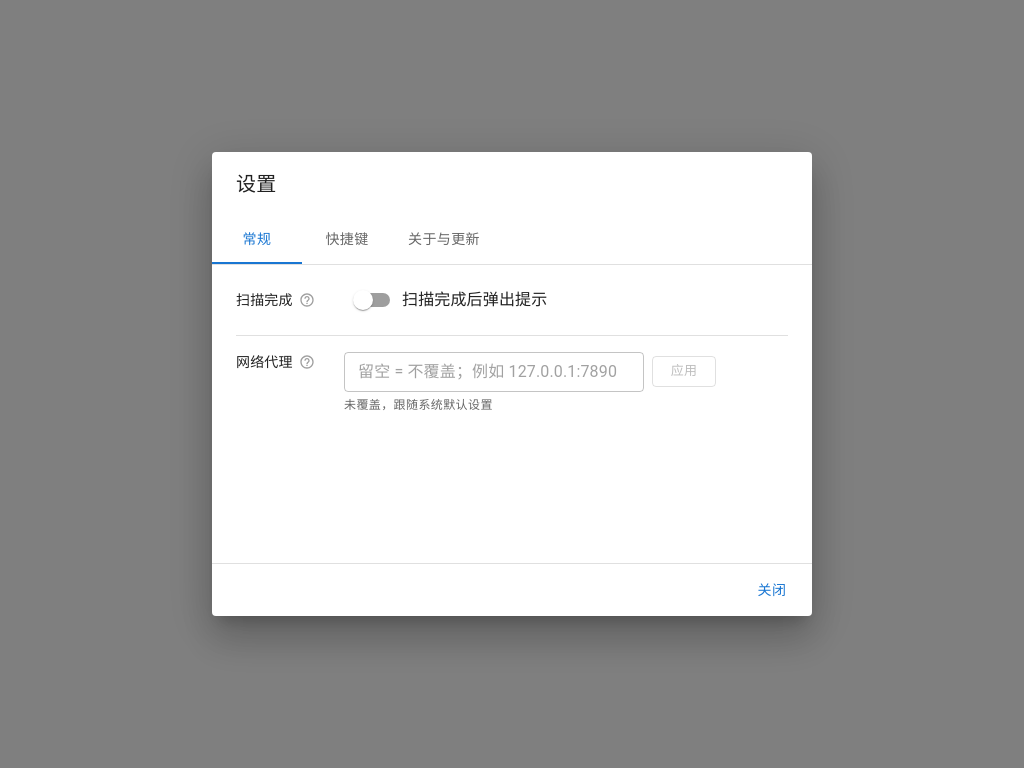
Test: G11 设置里的快捷键分区 › 有「快捷键」tab，渲染的行数等于数据源条数（界面不许各写一份）
The image size is (1024, 768).
What coordinates should you click on to do the following:
click the tab "快捷键"
I would click on:
 (347, 240)
Its box is [302, 216, 392, 264].
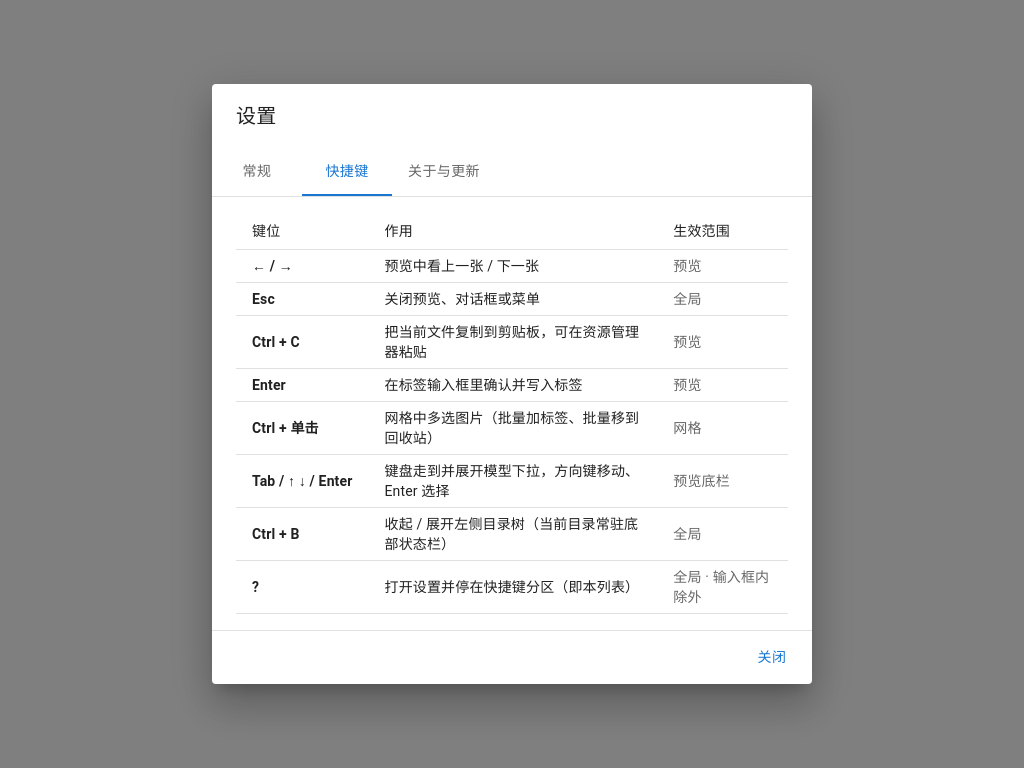
Now the number of rows is 9
